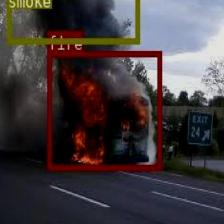fire: (47, 51, 161, 169)
smoke: (7, 0, 138, 43)
